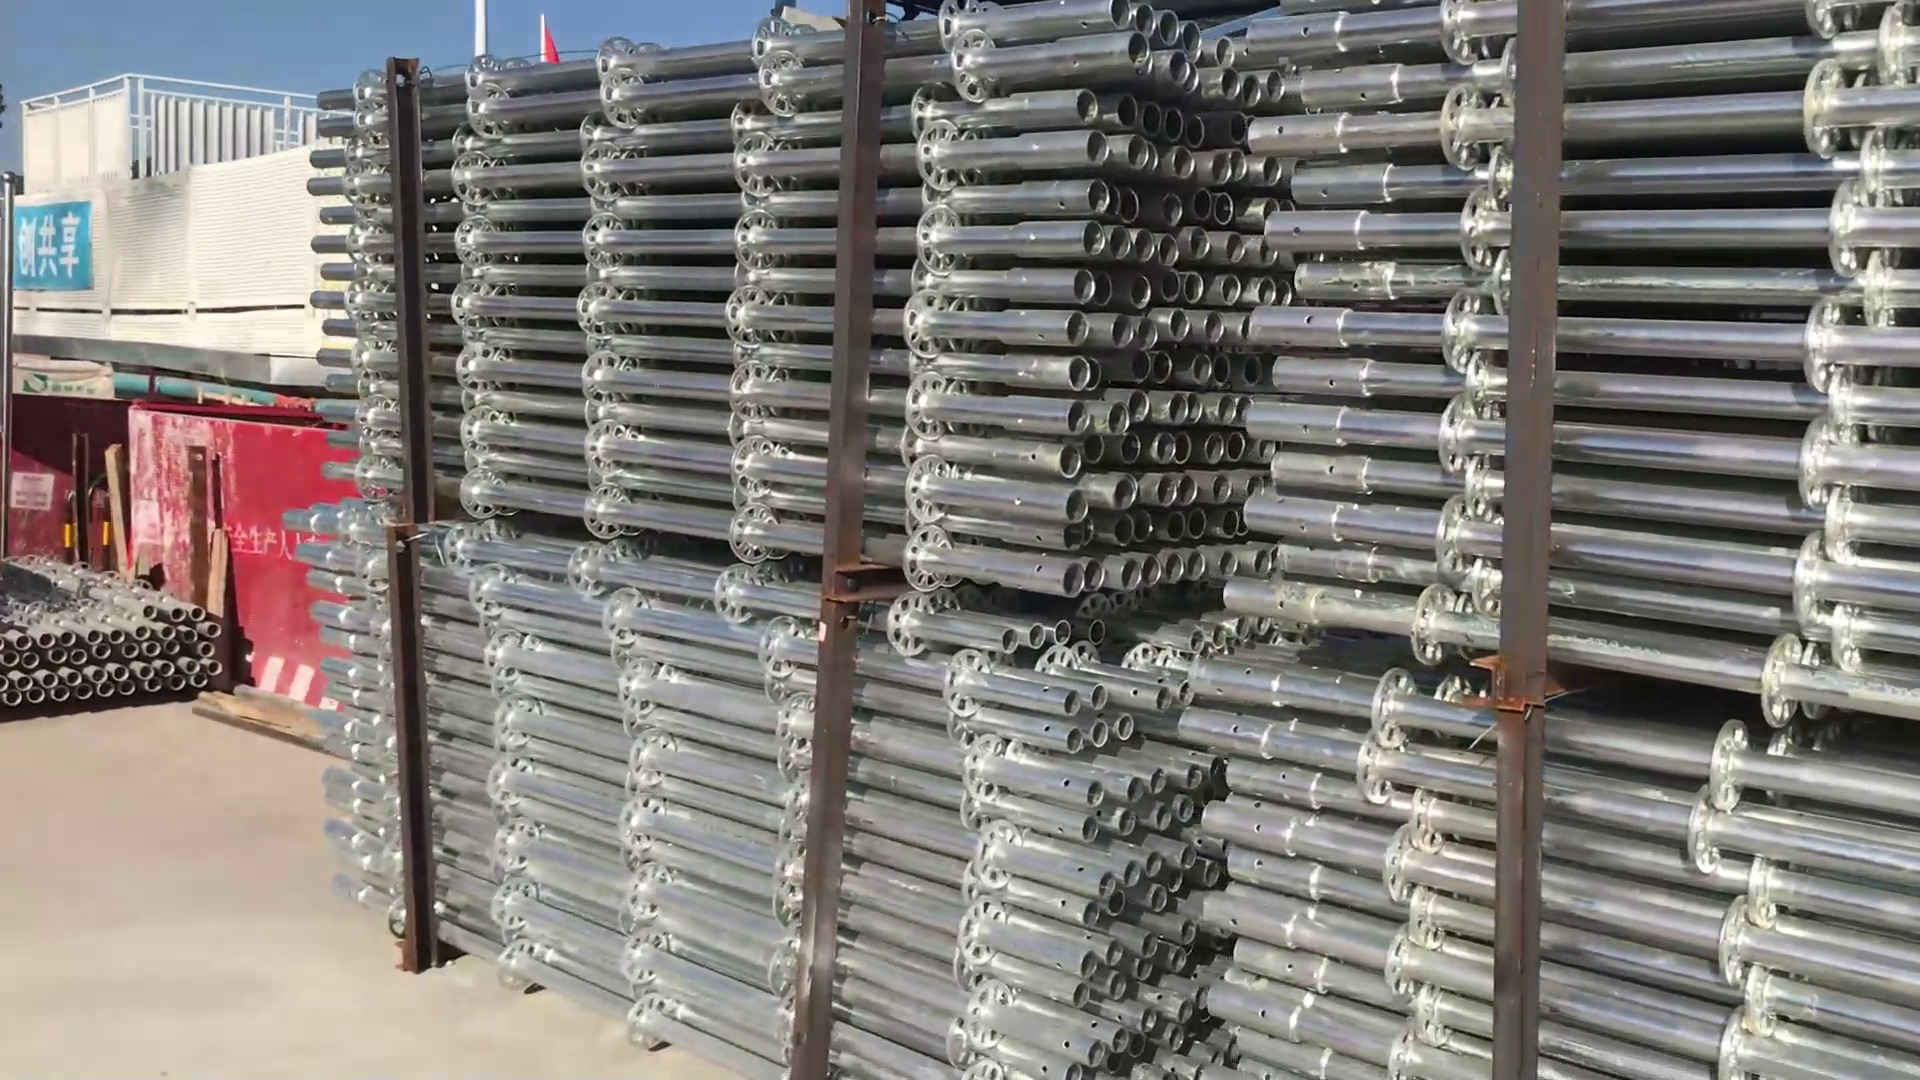fence: (127, 404, 334, 696), (59, 483, 115, 564)
scaffold: (323, 18, 1302, 1079), (1208, 1, 1920, 1080), (1, 560, 222, 708)
slogan: (12, 204, 94, 291)
